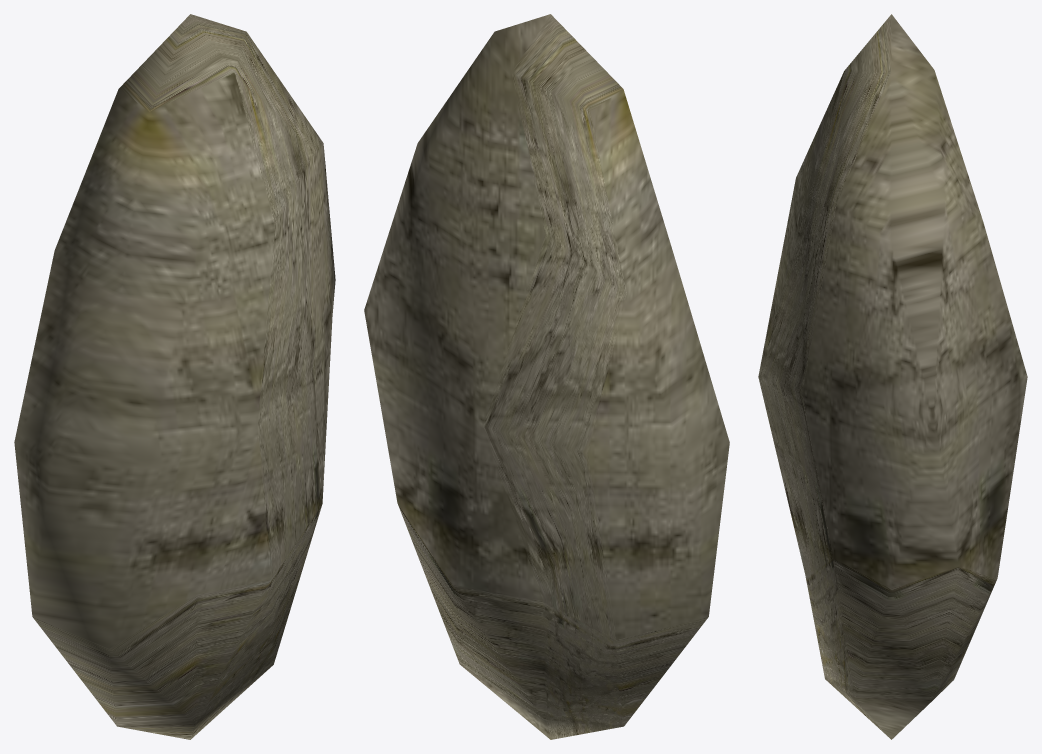
File: junction-stone-1.glb
3 views of the same model, side by side, from view 1: azimuth 30°, elevation 25°; view 2: azimuth 150°, elevation 25°; view 3: azimuth 270°, elevation 25° (orthographic).
Visible parts, largest first — view 1: junction-stone-1; view 2: junction-stone-1; view 3: junction-stone-1.
Part boxes in pixels (x1=…): junction-stone-1: x1=14, y1=14, x2=335, y2=739; junction-stone-1: x1=364, y1=14, x2=729, y2=739; junction-stone-1: x1=758, y1=14, x2=1027, y2=739.
Bounding box in the file's own units: 0.7497 × 1.6 × 0.5379.
1 material, 1 textured.
